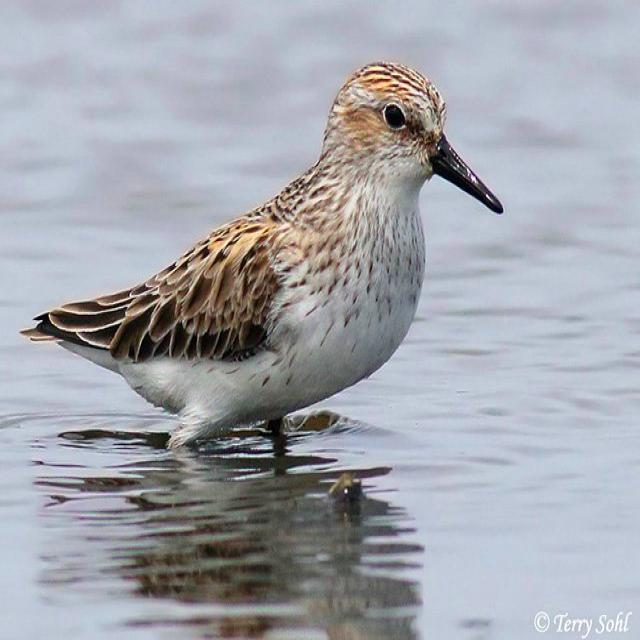sandpiper: (22, 62, 502, 446)
